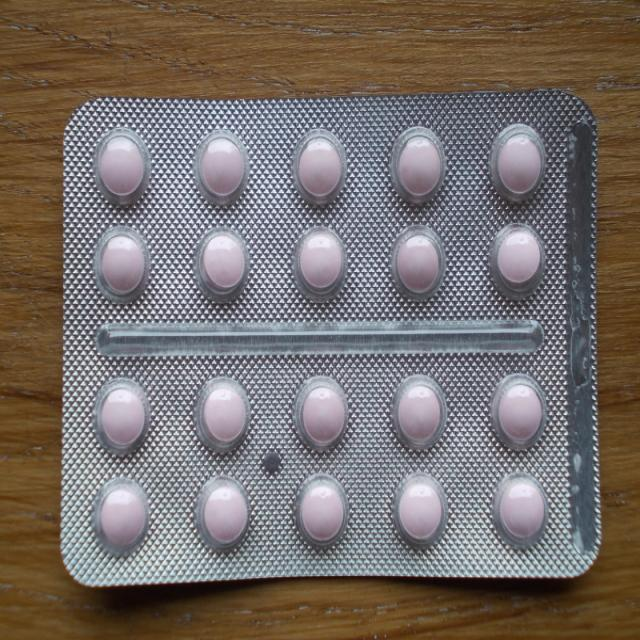Pill: (90, 116, 156, 213), (487, 468, 551, 563), (488, 117, 551, 212), (193, 373, 258, 460), (484, 377, 551, 459), (390, 371, 449, 464), (195, 473, 257, 560), (285, 132, 352, 212), (390, 127, 452, 213), (190, 127, 251, 213), (293, 472, 352, 560), (93, 223, 153, 309), (290, 377, 352, 460), (487, 222, 548, 306), (92, 379, 152, 464), (393, 472, 449, 560), (392, 230, 450, 310), (199, 225, 252, 308), (292, 226, 345, 306), (98, 483, 151, 556)
